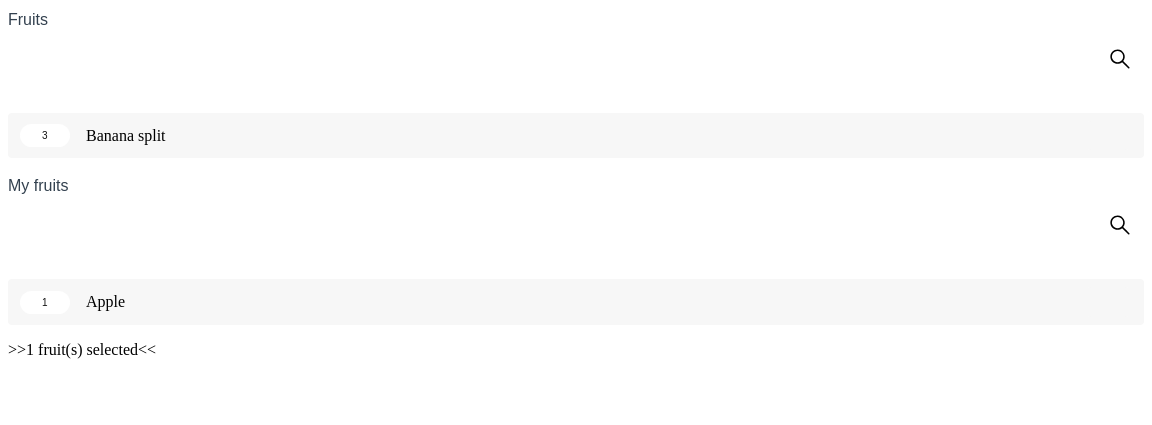
Test: MultiSelect.vue › v-model › updates the parent component when a new item is selected
Type "mang" into the 2nd dropdown with class "displayInput". click: coordinates (576, 227)
box: 8,206 -> 1144,247
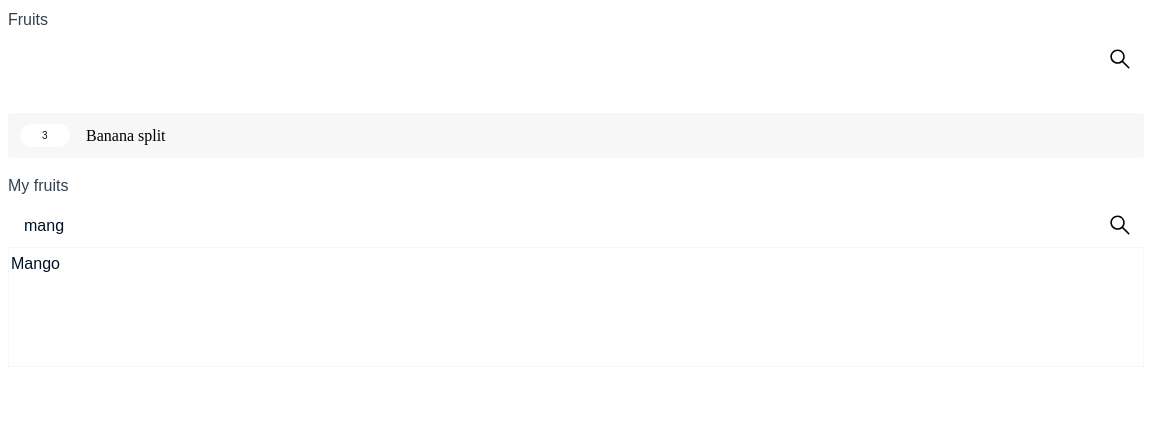
Check: the list item with class "lux-autocomplete-result" reads "Mango"
Press the mouse on the list item with class "lux-autocomplete-result" at coordinates (35, 264), box 11,255 -> 60,272
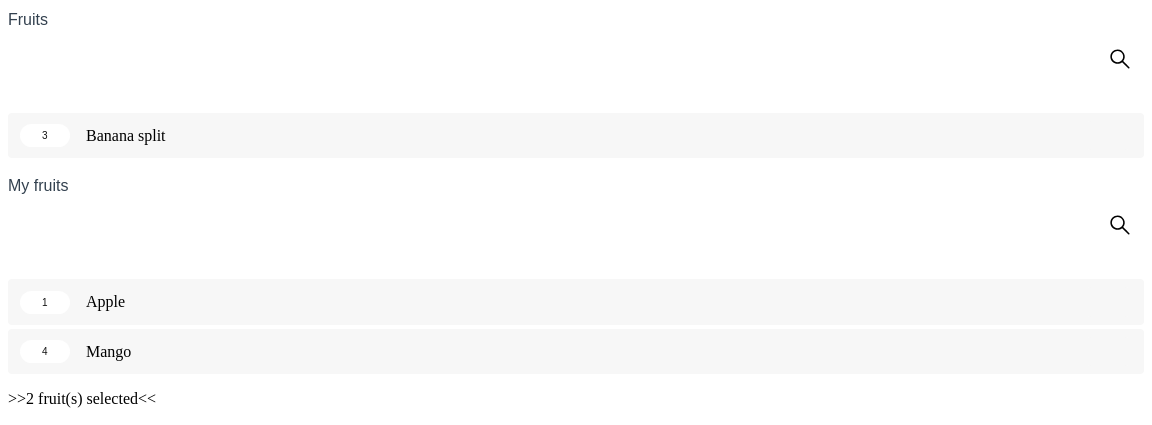
Check: the list with class "selected-items" shows "Apple", box 86,293 -> 125,310
Check: the text ">>2 fruit(s) selected<<" is shown, box 8,390 -> 156,407
Check: the list with class "selected-items" shows "Mango", box 86,343 -> 131,360
